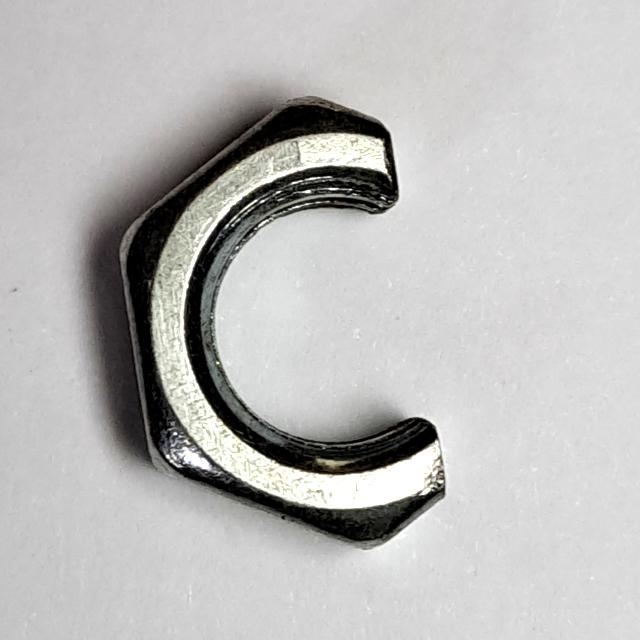Fracture: (109, 77, 469, 572)
